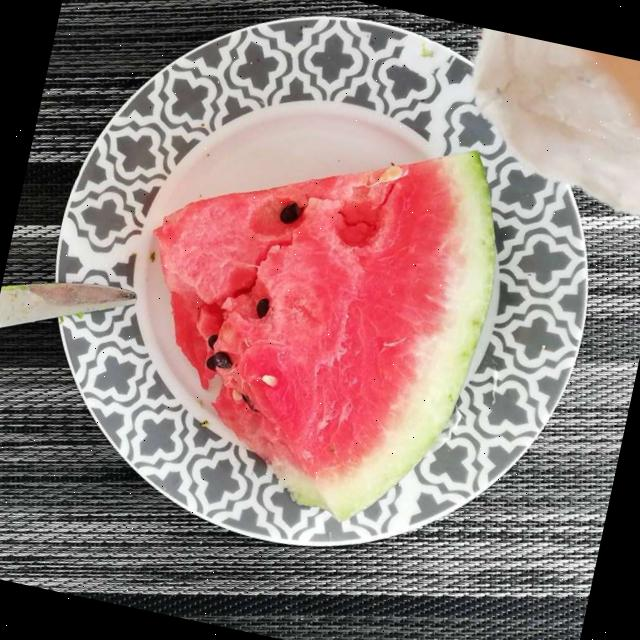watermelon-fresh: (156, 151, 498, 513)
